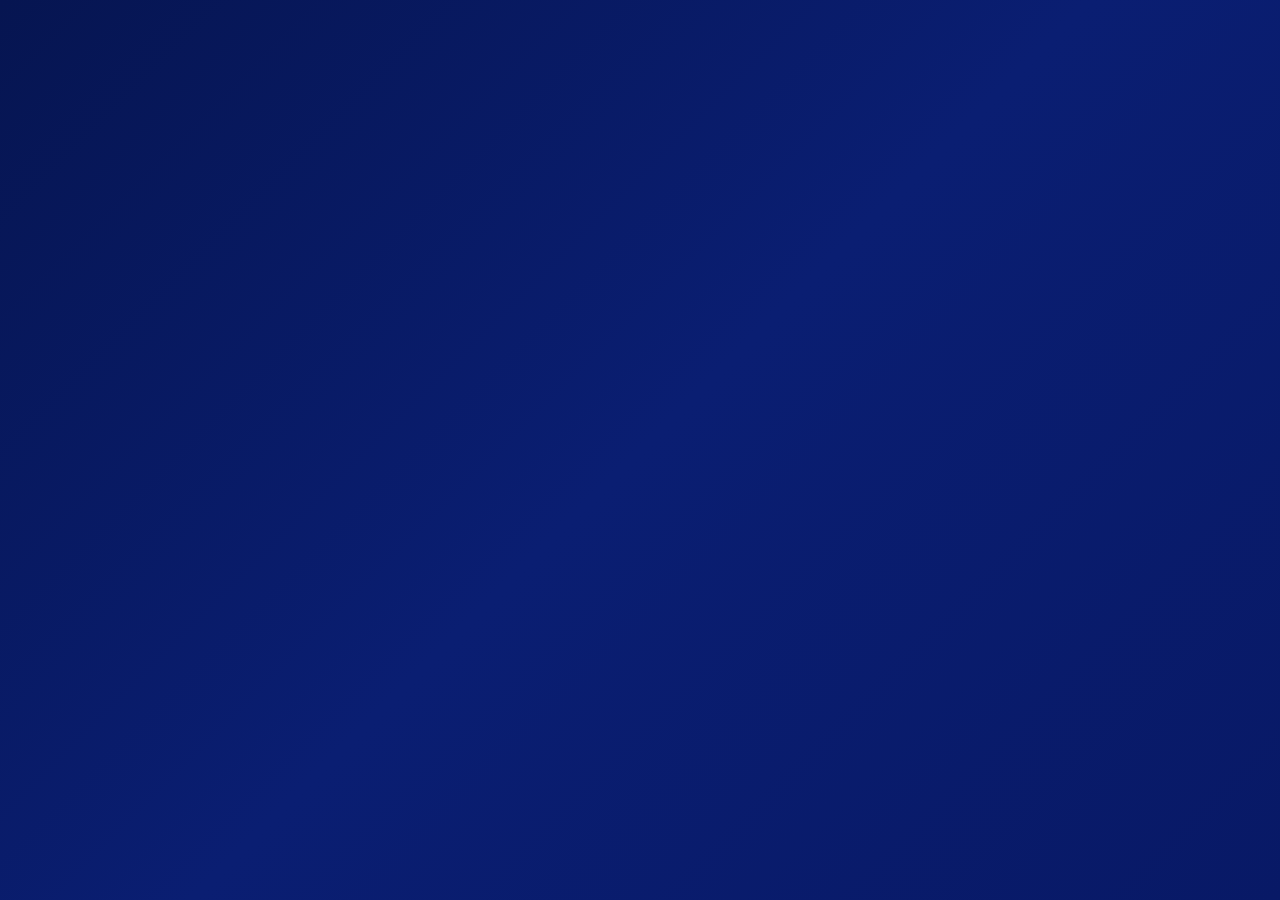
Test: CommandPalette message search (integration) › does not search message bodies for a single character
Press k
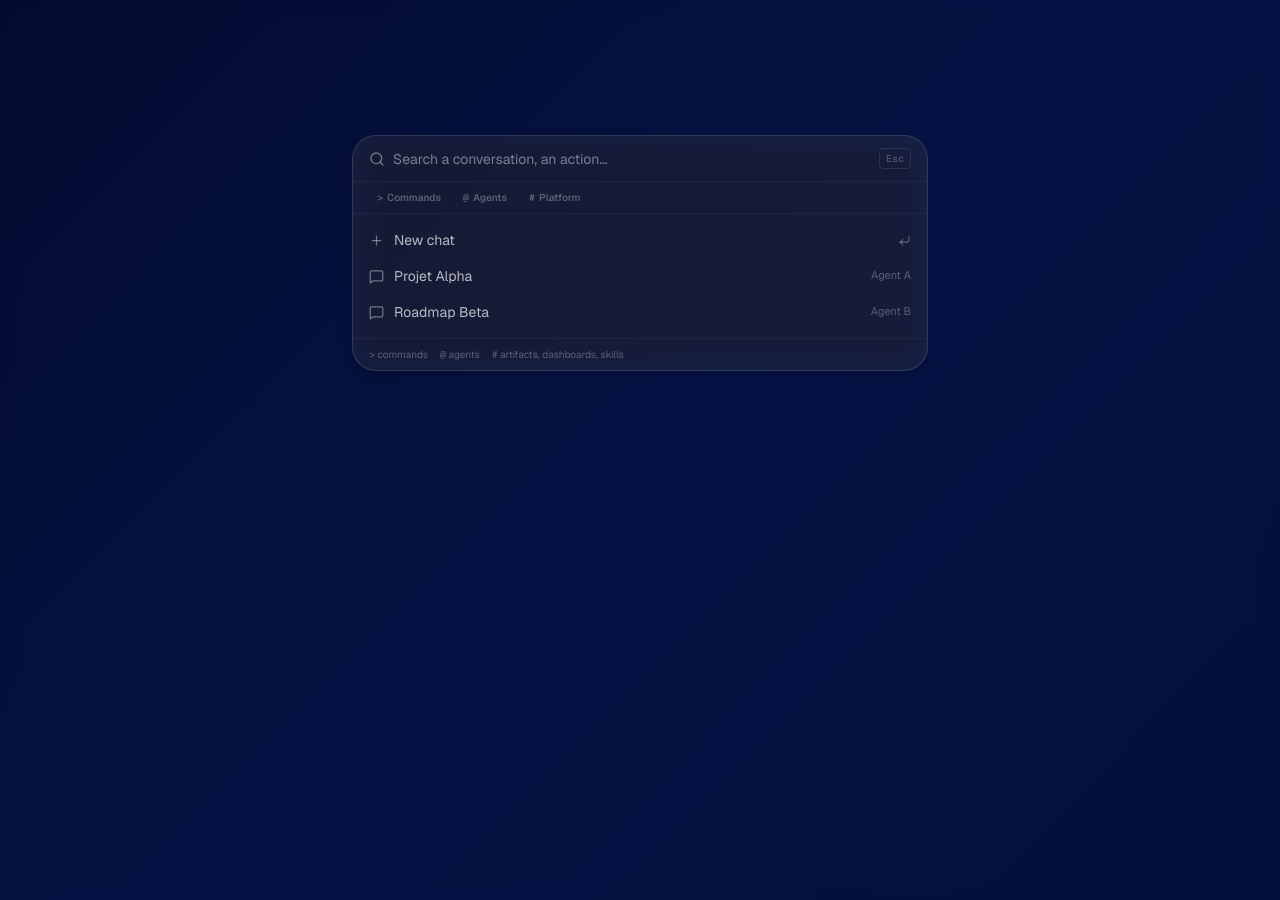
Type "x" into the dropdown labelled "Search" at (632, 158), box x1=393 y1=148 x2=871 y2=168
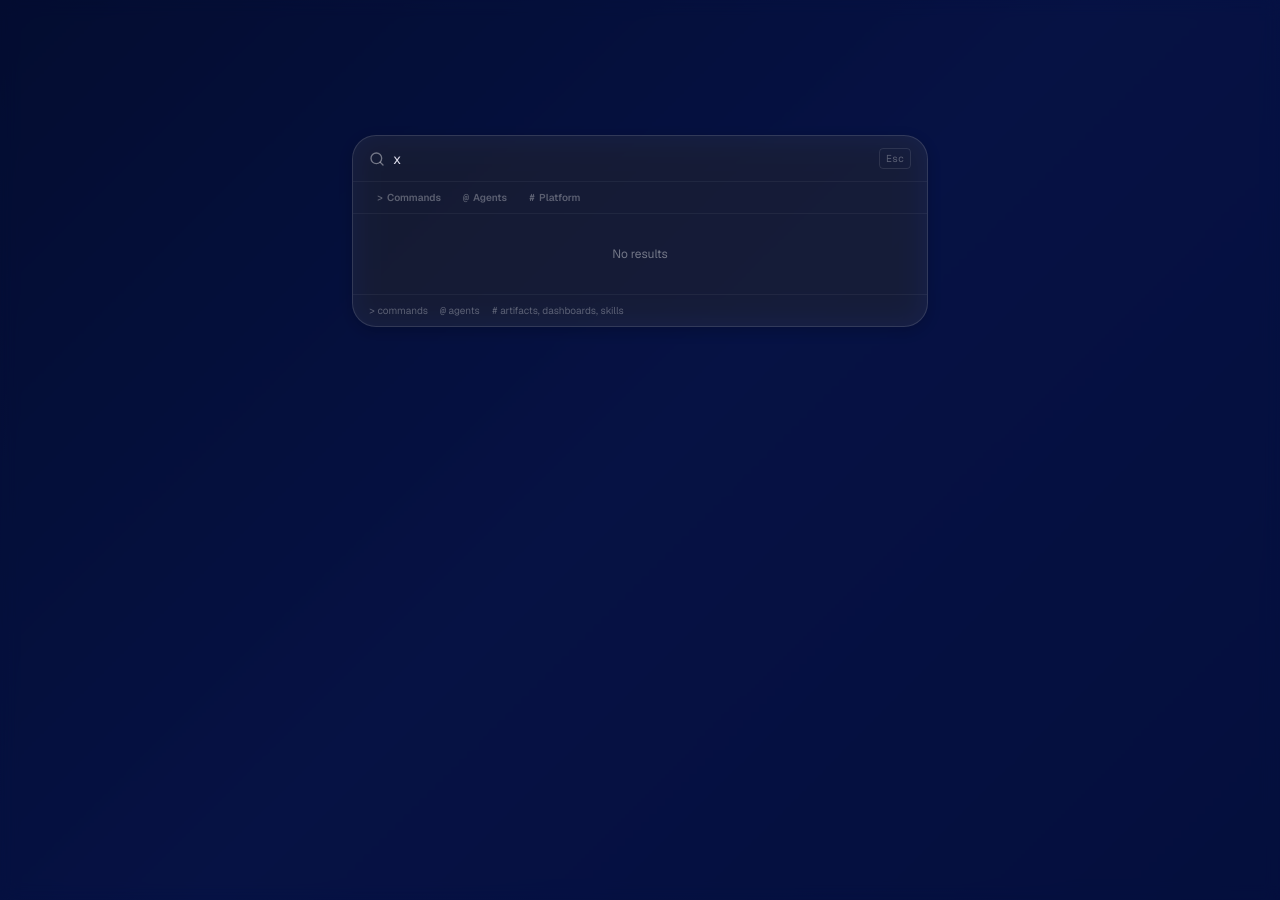
Check: the text "No results" is shown, box x1=612 y1=246 x2=668 y2=262
